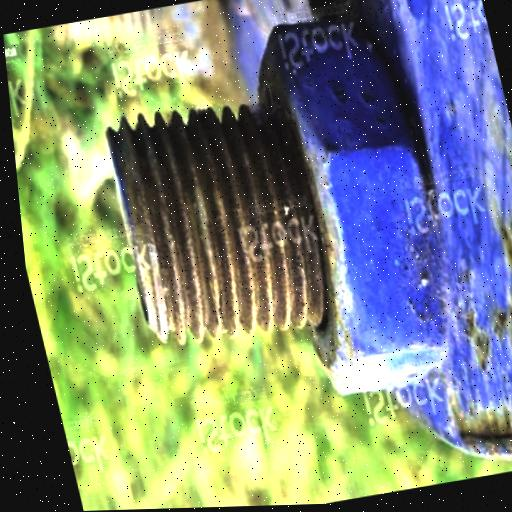corrosion: (99, 95, 345, 353)
